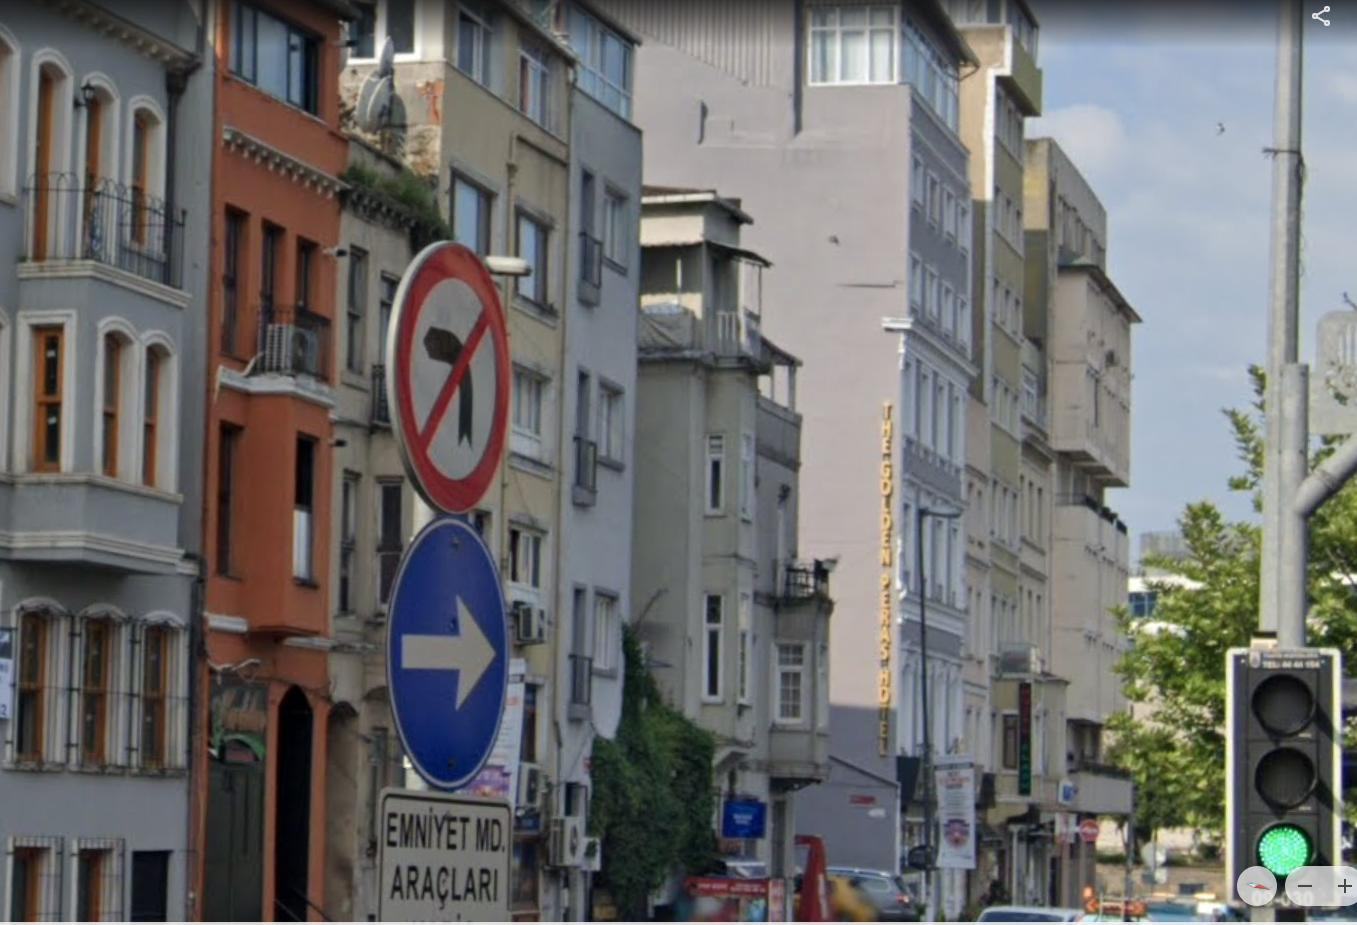leftturnsareforbidden: (390, 234, 514, 507)
turnright: (384, 515, 528, 788)
